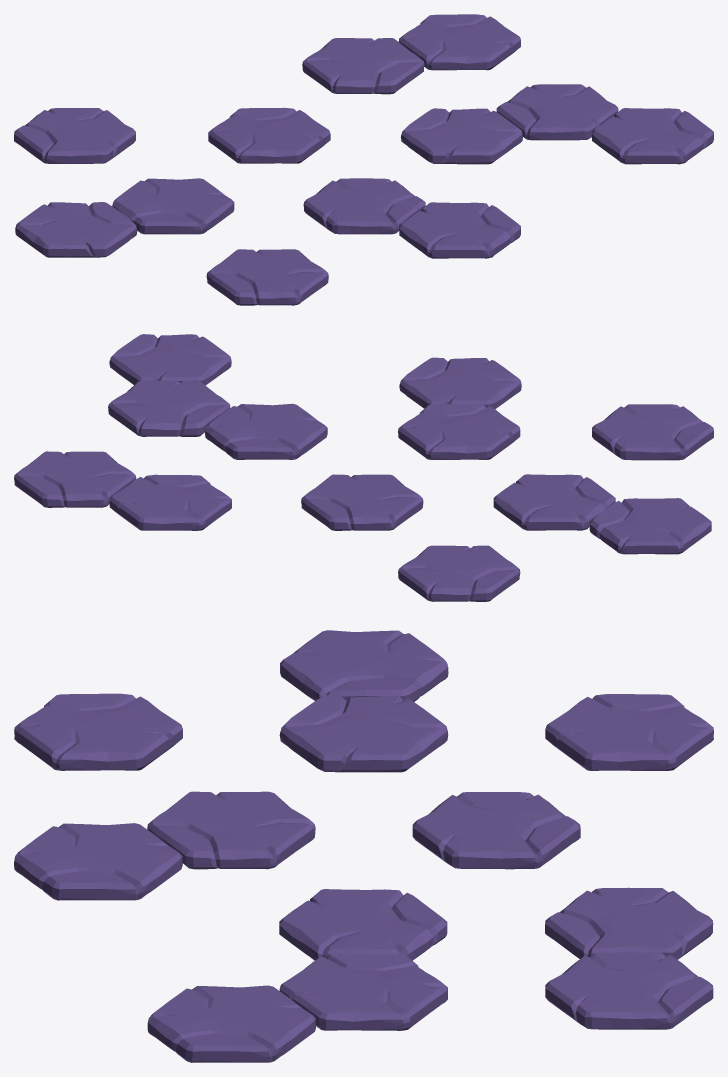
File: hex1.fbx
3 renders of one model, top to bottom at view 1: azimuth 30°, elevation 25°; view 2: azimuth 150°, elevation 25°; view 3: azimuth 270°, elevation 25°, orthographic. The views are drawn at different scales.
Visible parts, largest first — view 1: hex_interno_001; view 2: hex_interno_001; view 3: hex_interno_001.
Part boxes in pixels (x1=…): hex_interno_001: x1=14, y1=14, x2=713, y2=305; hex_interno_001: x1=14, y1=334, x2=713, y2=601; hex_interno_001: x1=14, y1=630, x2=713, y2=1062.
Size of the model in its own units: 6.86 by 0.1332 by 4.85.
